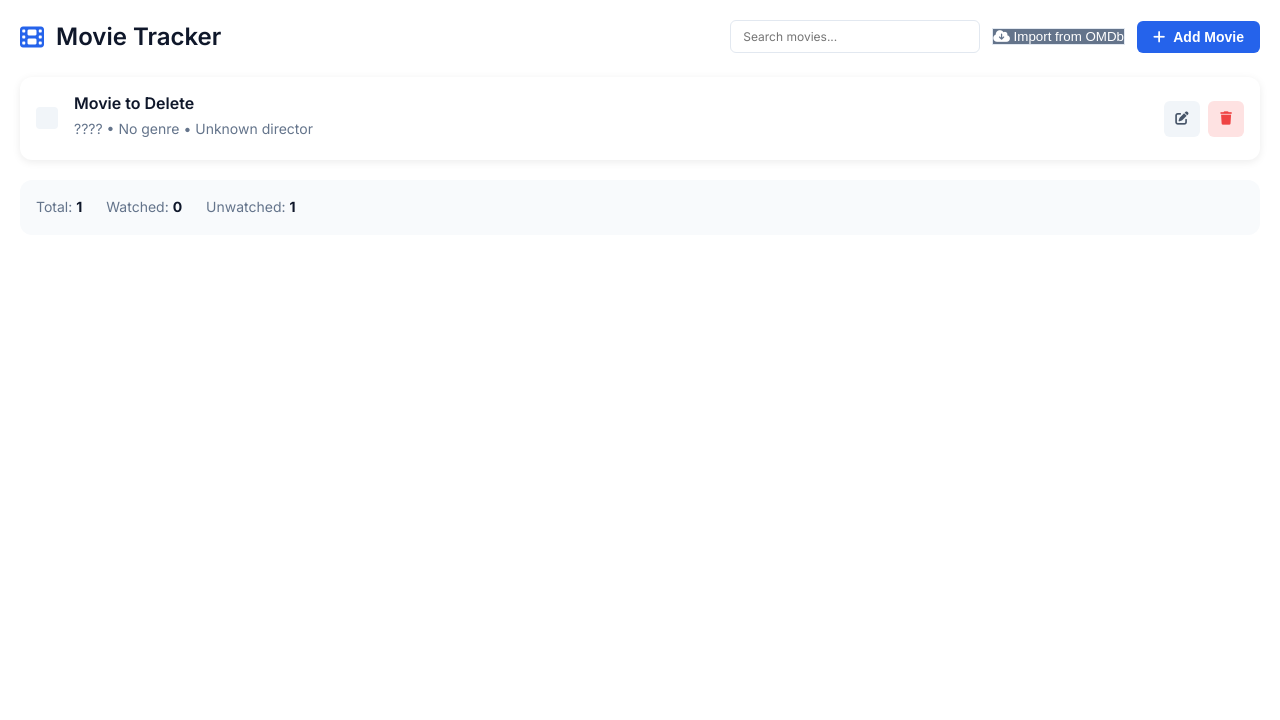
MoviesSection Component › Delete Movie › shows confirmation modal when deleting
Click the button titled "Delete". click: (1226, 119)
box: top-left (1208, 101), bottom-right (1244, 137)
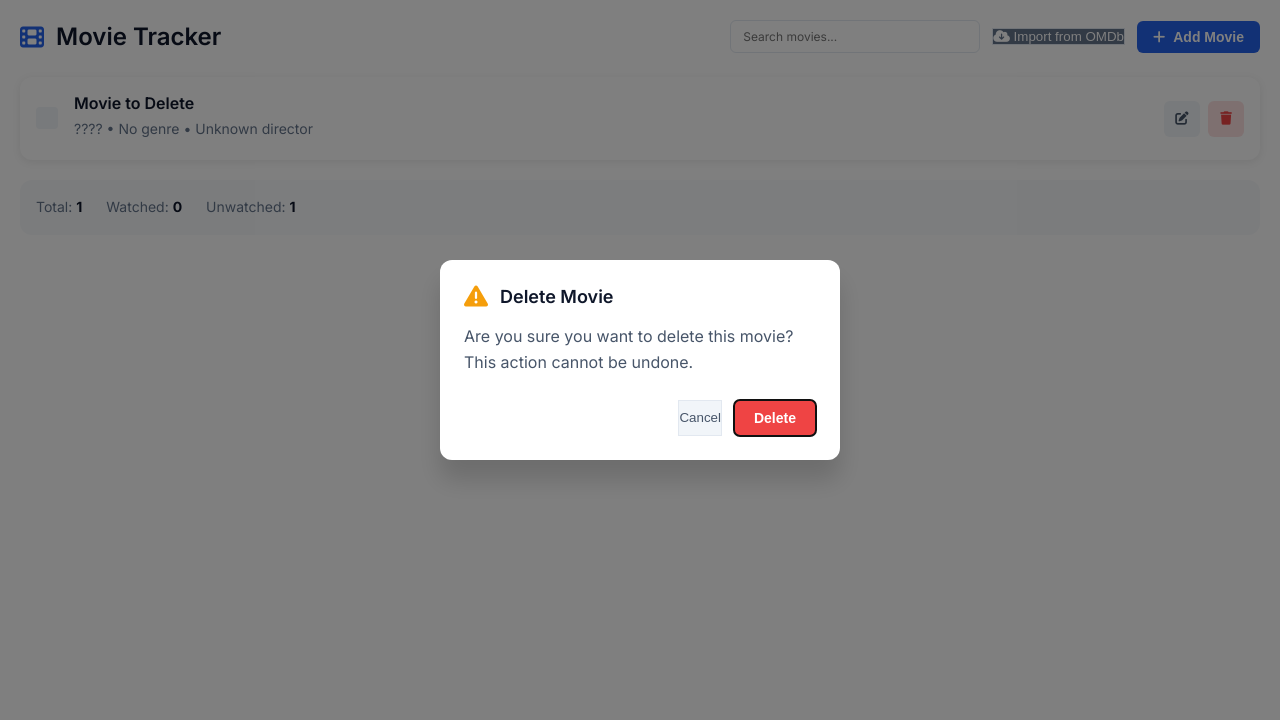
Now the heading "Delete Movie" is shown, box top-left (500, 285), bottom-right (614, 308)
